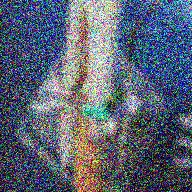러키펜정: (124, 94, 141, 116)
씨엠지세파클러캡슐: (106, 103, 126, 136)
에르도캡슐: (81, 103, 112, 123)
휴티렌정: (103, 90, 125, 112)
